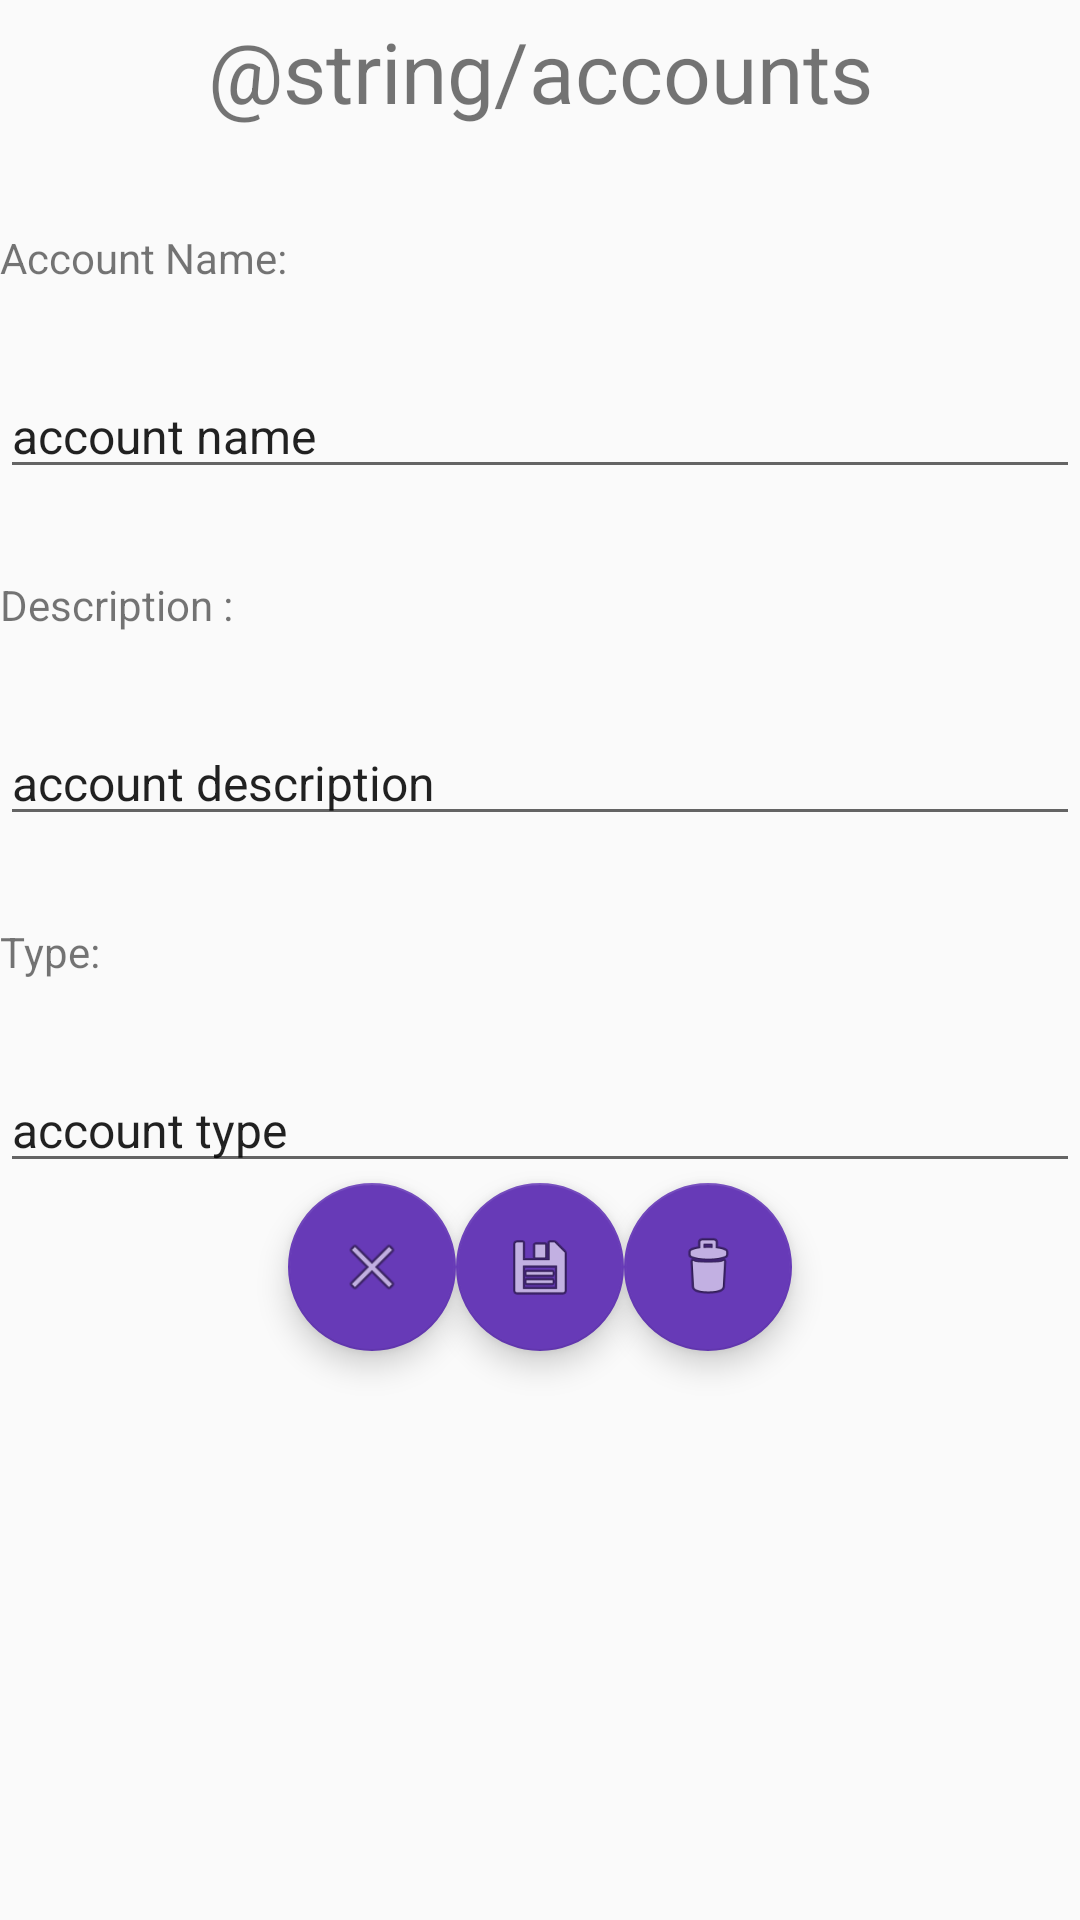

Screen size 1080×1920. Icon name, then its center in pixels as point (x, y):
close clear cancel: point (372, 1267)
delete: point (708, 1267)
save: point (540, 1267)
